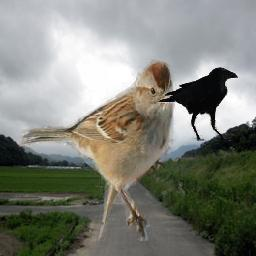Crow: (156, 67, 238, 142)
Sparrow: (20, 57, 179, 241)
